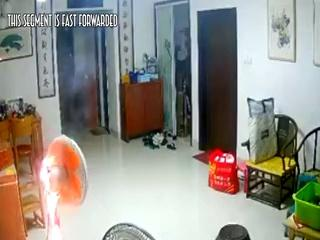Fire: (35, 156, 65, 238)
